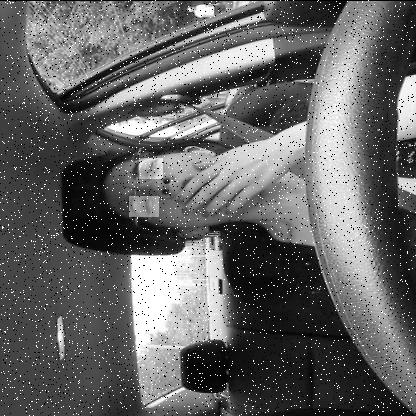seatbelt: (74, 122, 416, 246)
